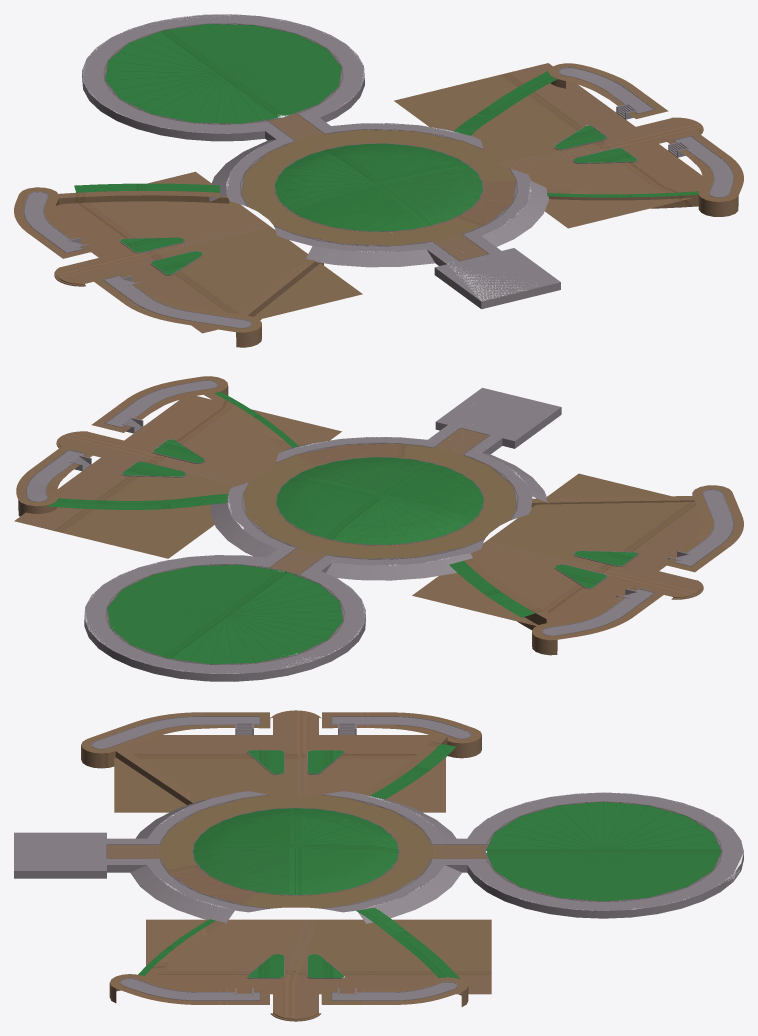
File: objects_un_t04tile01.gltf
3 views of the same model, one above another, from view 1: azimuth 30°, elevation 25°; view 2: azimuth 150°, elevation 25°; view 3: azimuth 270°, elevation 25° (orthographic).
Parts seen in each view (by area): view 1: um_objects_un_t04tile01_model_lod0Shape:objects_un_t04tile01 (×2), nomerge_objects_un_t04tile01_shape:objects_un_t04step01_01, um_objects_un_t04tile01_model_lod1Shape:objects_un_t04wall01, um_objects_un_t04tile01_model_lod1Shape:objects_un_t04tile01, um_objects_un_t04tile01_model_lod0Shape:objects_un_t04wall01, um_objects_un_t04tile01_model_lod0Shape:objects_un_t04step01, um_objects_un_t04tile01_model_lod1Shape:objects_un_t04step01; view 2: um_objects_un_t04tile01_model_lod0Shape:objects_un_t04tile01, nomerge_objects_un_t04tile01_shape:objects_un_t04step01_01, um_objects_un_t04tile01_model_lod1Shape:objects_un_t04wall01, um_objects_un_t04tile01_model_lod1Shape:objects_un_t04tile01, um_objects_un_t04tile01_model_lod0Shape:objects_un_t04wall01, um_objects_un_t04tile01_model_lod0Shape:objects_un_t04step01, um_objects_un_t04tile01_model_lod1Shape:objects_un_t04step01; view 3: um_objects_un_t04tile01_model_lod0Shape:objects_un_t04tile01, nomerge_objects_un_t04tile01_shape:objects_un_t04step01_01, um_objects_un_t04tile01_model_lod1Shape:objects_un_t04wall01, um_objects_un_t04tile01_model_lod1Shape:objects_un_t04tile01, um_objects_un_t04tile01_model_lod0Shape:objects_un_t04wall01, um_objects_un_t04tile01_model_lod0Shape:objects_un_t04step01, um_objects_un_t04tile01_model_lod1Shape:objects_un_t04step01.
Boxes of the visible parts, bbox=[...] form: um_objects_un_t04tile01_model_lod0Shape:objects_un_t04tile01 (×2): bbox=[14, 14, 743, 347]; nomerge_objects_un_t04tile01_shape:objects_un_t04step01_01: bbox=[74, 24, 698, 274]; um_objects_un_t04tile01_model_lod1Shape:objects_un_t04wall01: bbox=[69, 14, 689, 308]; um_objects_un_t04tile01_model_lod1Shape:objects_un_t04tile01: bbox=[20, 65, 738, 331]; um_objects_un_t04tile01_model_lod0Shape:objects_un_t04wall01: bbox=[24, 14, 733, 327]; um_objects_un_t04tile01_model_lod0Shape:objects_un_t04step01: bbox=[23, 23, 734, 328]; um_objects_un_t04tile01_model_lod1Shape:objects_un_t04step01: bbox=[29, 23, 727, 327]; um_objects_un_t04tile01_model_lod0Shape:objects_un_t04tile01: bbox=[14, 376, 743, 655]; nomerge_objects_un_t04tile01_shape:objects_un_t04step01_01: bbox=[46, 391, 637, 664]; um_objects_un_t04tile01_model_lod1Shape:objects_un_t04wall01: bbox=[70, 387, 689, 673]; um_objects_un_t04tile01_model_lod1Shape:objects_un_t04tile01: bbox=[28, 376, 730, 639]; um_objects_un_t04tile01_model_lod0Shape:objects_un_t04wall01: bbox=[27, 381, 733, 681]; um_objects_un_t04tile01_model_lod0Shape:objects_un_t04step01: bbox=[26, 380, 734, 664]; um_objects_un_t04tile01_model_lod1Shape:objects_un_t04step01: bbox=[28, 380, 721, 664]; um_objects_un_t04tile01_model_lod0Shape:objects_un_t04tile01: bbox=[81, 710, 491, 1021]; nomerge_objects_un_t04tile01_shape:objects_un_t04step01_01: bbox=[138, 744, 721, 979]; um_objects_un_t04tile01_model_lod1Shape:objects_un_t04wall01: bbox=[14, 722, 743, 994]; um_objects_un_t04tile01_model_lod1Shape:objects_un_t04tile01: bbox=[82, 710, 487, 1020]; um_objects_un_t04tile01_model_lod0Shape:objects_un_t04wall01: bbox=[14, 717, 743, 1000]; um_objects_un_t04tile01_model_lod0Shape:objects_un_t04step01: bbox=[91, 716, 722, 1000]; um_objects_un_t04tile01_model_lod1Shape:objects_un_t04step01: bbox=[92, 732, 722, 988].
Size of what is drawn, in the model's own units: 216 by 8.85 by 214.
Materials: 5 (4 with a texture image).
